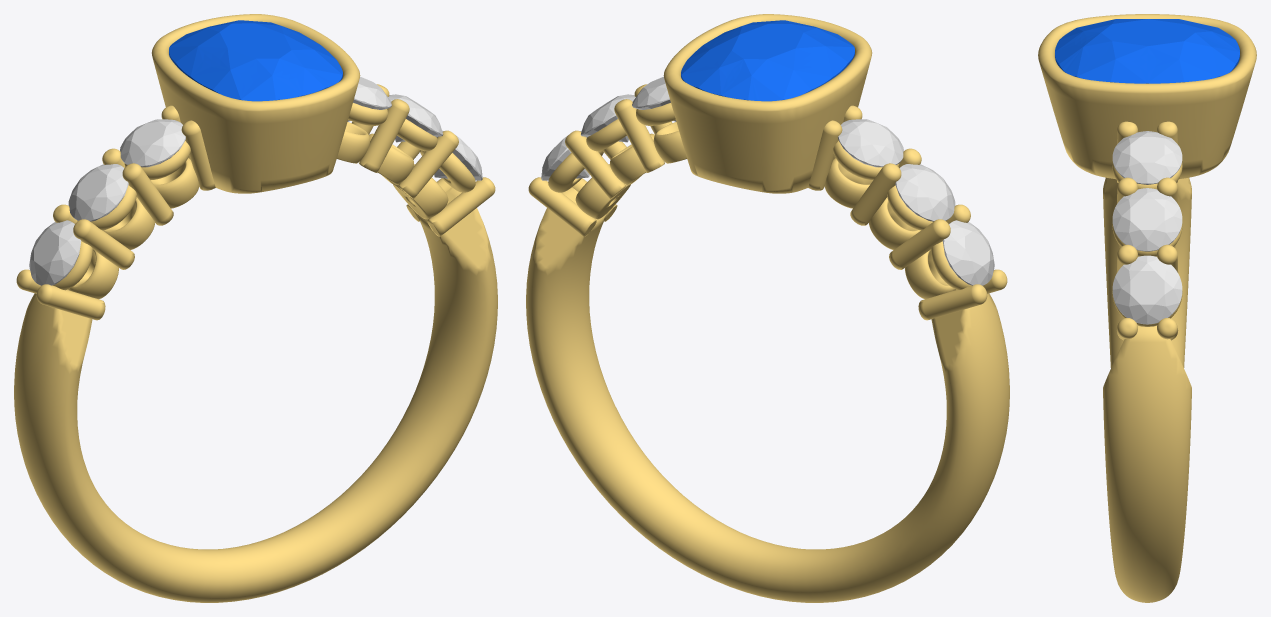
File: bluesapphire-cushion-yellowgold-bezelset-taperedband-7stone.glb
3 renders of one model, left to right at view 1: azimuth 30°, elevation 25°; view 2: azimuth 150°, elevation 25°; view 3: azimuth 270°, elevation 25°, orthographic.
Parts seen in each view (by area): view 1: metal.001, stone, side.002, side.001, side.003, side.005, side.004, side.006; view 2: metal.001, stone, side.002, side.001, side.003, side.005, side.004, side.006; view 3: metal.001, stone, side.006, side.005, side.004.
Boxes of the visible parts, x1,y1,x2,y2 form: metal.001: [14, 14, 497, 602]; stone: [169, 20, 342, 101]; side.002: [68, 164, 128, 221]; side.001: [29, 220, 81, 285]; side.003: [120, 119, 185, 167]; side.005: [388, 94, 443, 142]; side.004: [347, 76, 391, 121]; side.006: [434, 130, 482, 180]; metal.001: [526, 14, 1009, 602]; stone: [681, 20, 854, 101]; side.002: [895, 164, 955, 221]; side.001: [942, 220, 994, 285]; side.003: [838, 119, 903, 167]; side.005: [580, 94, 635, 142]; side.004: [632, 76, 676, 121]; side.006: [541, 130, 589, 180]; metal.001: [1038, 14, 1256, 602]; stone: [1055, 19, 1239, 83]; side.006: [1112, 255, 1182, 324]; side.005: [1112, 188, 1182, 251]; side.004: [1112, 131, 1182, 184].
Size of the model in its own units: 20.5 by 23.24 by 8.45.
